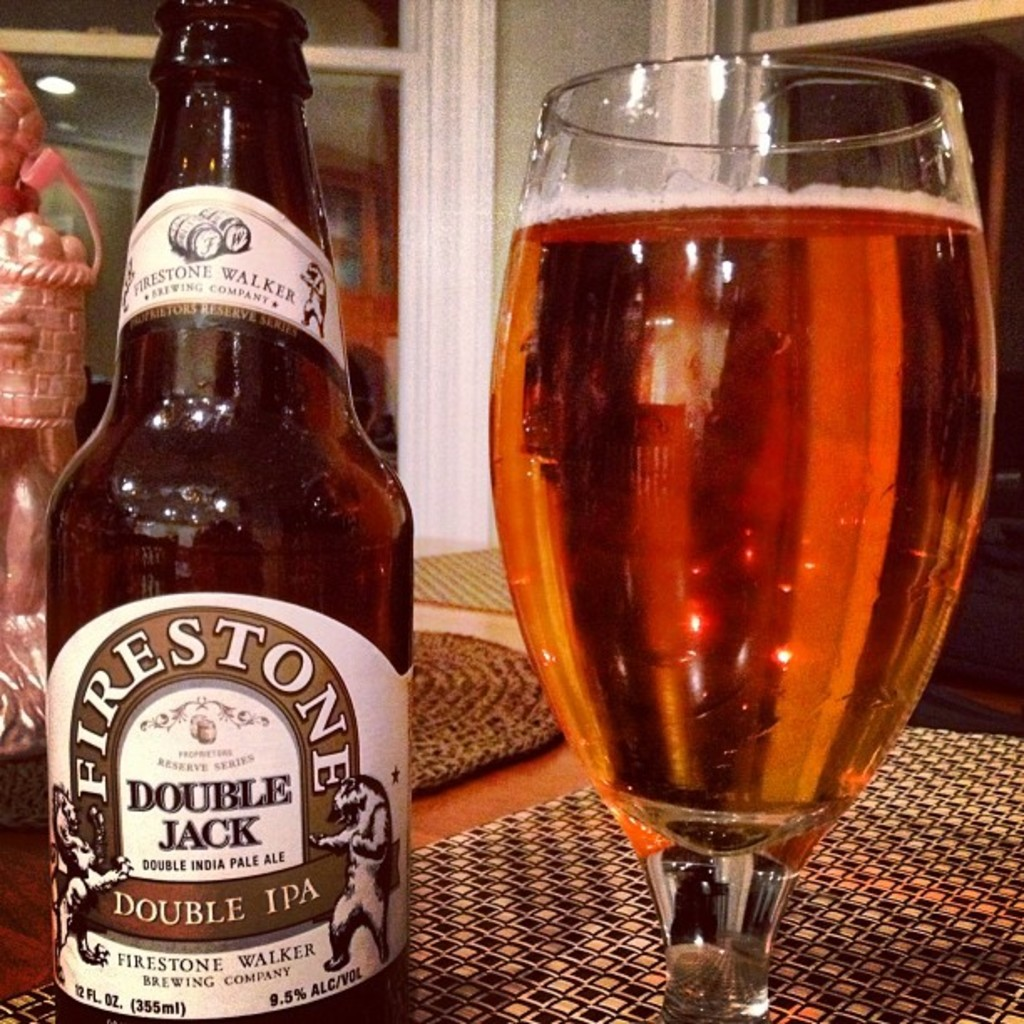Beer: (46, 0, 408, 1022), (483, 187, 1002, 868)
